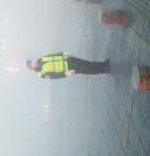person: (23, 51, 111, 81)
